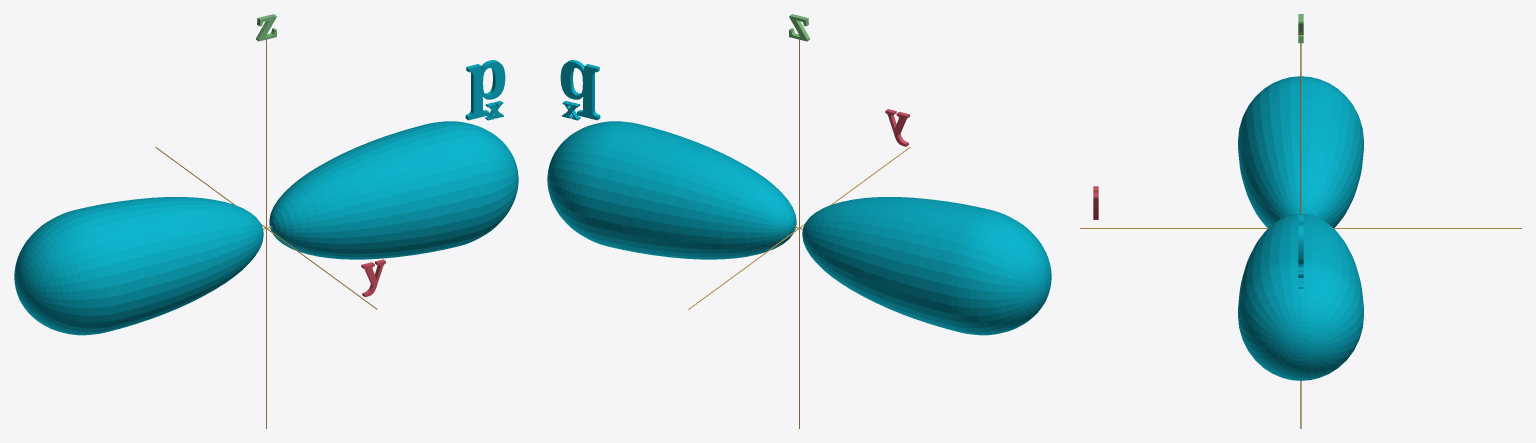
The picture shows the model from 3 angles, left to right: view 1: azimuth 30°, elevation 25°; view 2: azimuth 150°, elevation 25°; view 3: azimuth 270°, elevation 25°; orthographic projection.
Visible parts, largest first — view 1: Mesh_Mesh_head_geo.001_lambert2SG.001; view 2: Mesh_Mesh_head_geo.001_lambert2SG.001; view 3: Mesh_Mesh_head_geo.001_lambert2SG.001.
Boxes of the visible parts, x1,y1,x2,y2 form: Mesh_Mesh_head_geo.001_lambert2SG.001: (14, 14, 518, 428); Mesh_Mesh_head_geo.001_lambert2SG.001: (547, 14, 1051, 428); Mesh_Mesh_head_geo.001_lambert2SG.001: (1080, 14, 1521, 428).
Bounding box in the file's own units: 108 × 86.23 × 84.
